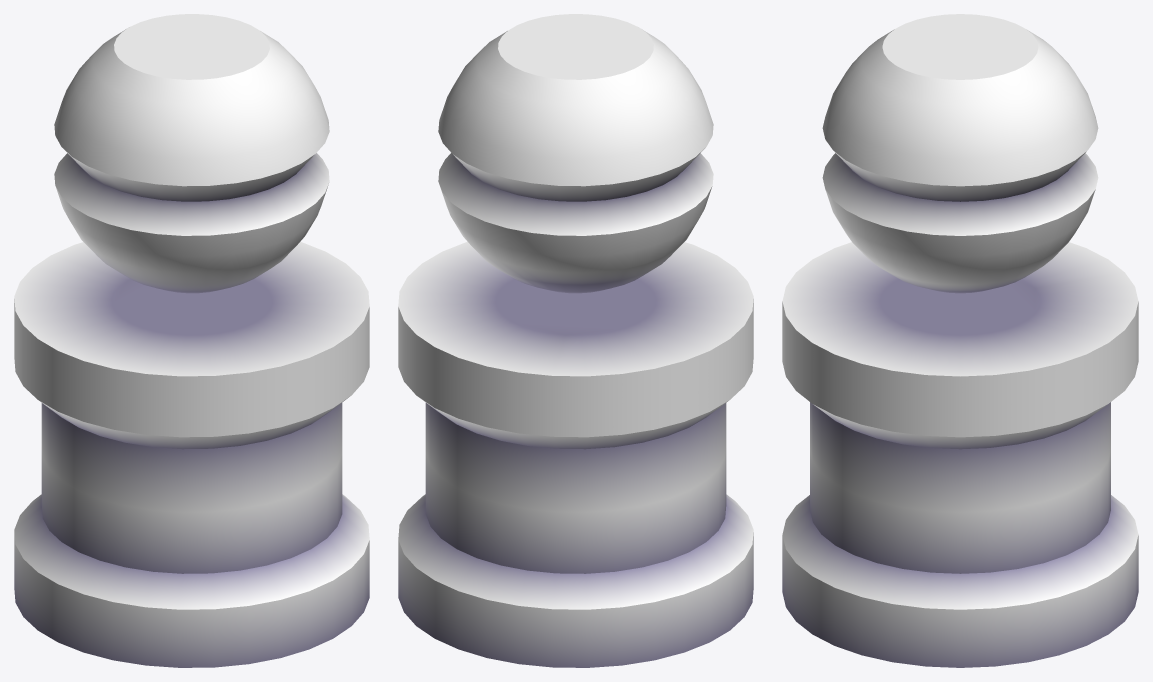
The model's file is wall.glb.
3 renders of one model, left to right at view 1: azimuth 30°, elevation 25°; view 2: azimuth 150°, elevation 25°; view 3: azimuth 270°, elevation 25°, orthographic.
Parts seen in each view (by area): view 1: Wall; view 2: Wall; view 3: Wall.
Boxes of the visible parts, box(x1,y1,x2,y2) form: Wall: box(14, 14, 369, 667); Wall: box(398, 14, 753, 667); Wall: box(782, 14, 1138, 667).
Size of the model in its own units: 4.18 by 7.06 by 4.18.
